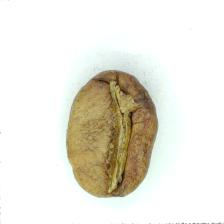NG: (76, 80, 147, 196)
